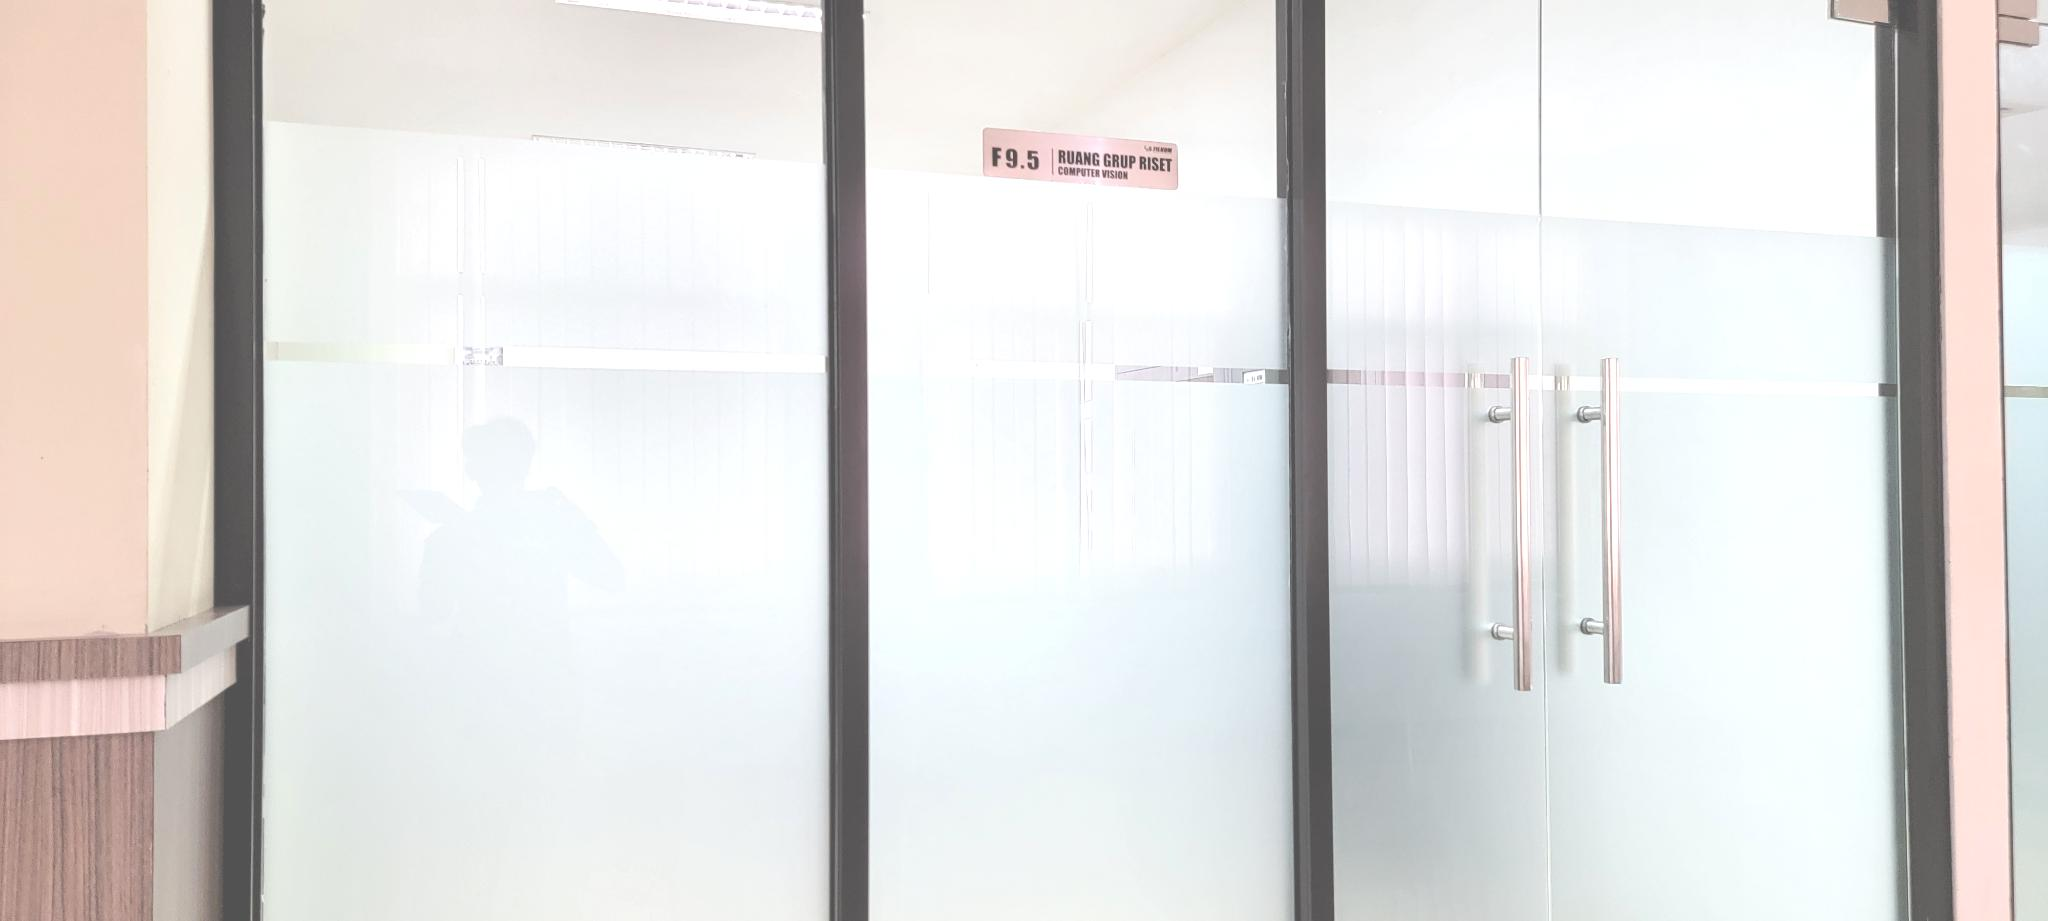plate: (981, 125, 1179, 193)
